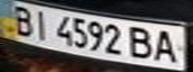2: (103, 20, 127, 56)
4: (48, 12, 75, 47)
5: (66, 16, 87, 51)
9: (84, 19, 106, 53)
A: (151, 27, 184, 64)
B: (124, 24, 157, 61), (6, 2, 39, 37)
I: (27, 8, 54, 41)
